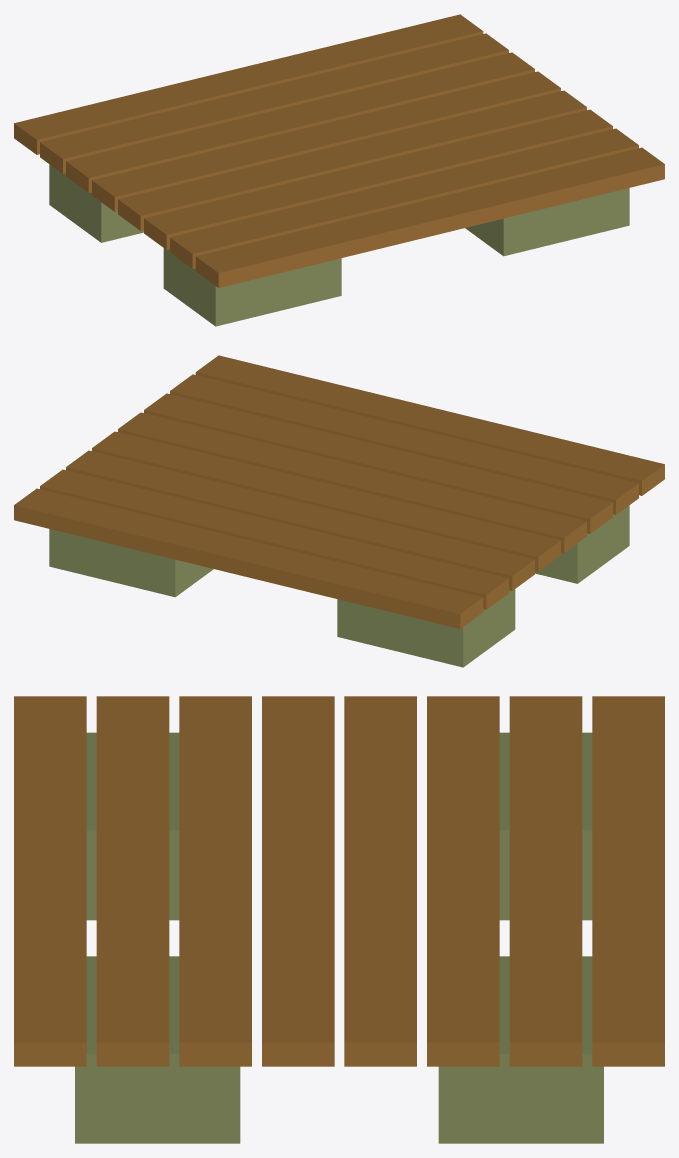
File: SM_BanquetaCorta_v2_LOD0.fbx
3 renders of one model, top to bottom at view 1: azimuth 30°, elevation 25°; view 2: azimuth 150°, elevation 25°; view 3: azimuth 270°, elevation 25°, orthographic. The views are drawn at different scales.
Visible parts, largest first — view 1: SM_banqueta_tiro_v12_LOD0; view 2: SM_banqueta_tiro_v12_LOD0; view 3: SM_banqueta_tiro_v12_LOD0.
Part boxes in pixels (box(x1,y1,x2,y2)): SM_banqueta_tiro_v12_LOD0: box(14, 14, 664, 326); SM_banqueta_tiro_v12_LOD0: box(14, 355, 664, 667); SM_banqueta_tiro_v12_LOD0: box(14, 696, 664, 1143).
Bounding box in the file's own units: 2.48 × 0.38 × 1.97.
